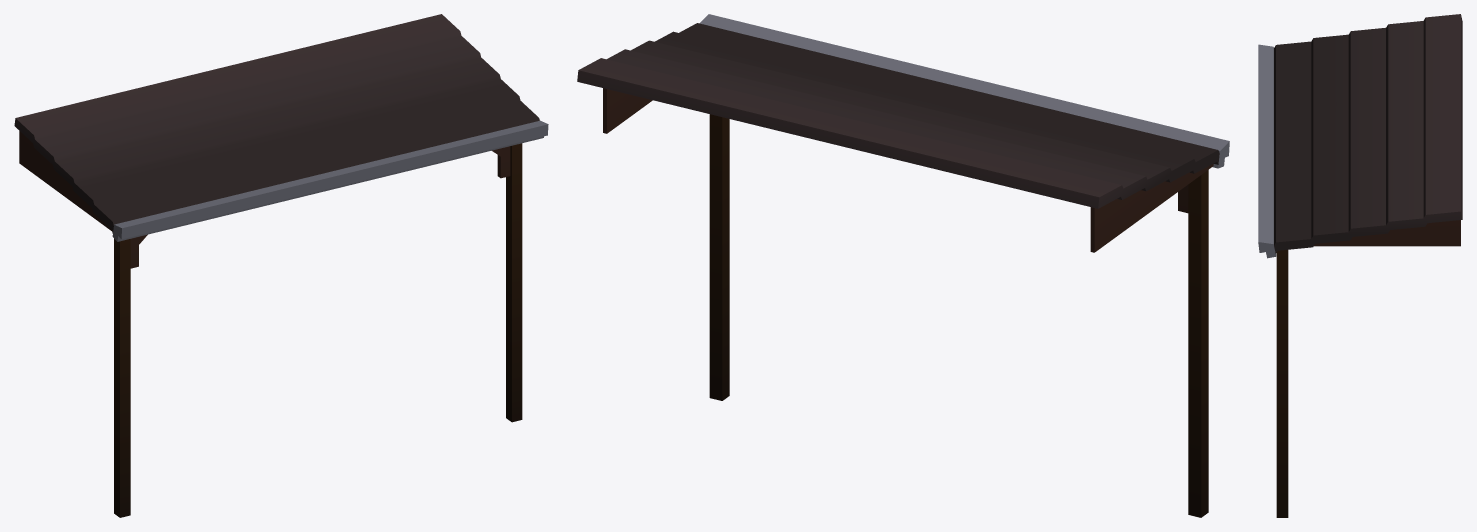
File: Awning 5M.glb
3 views of the same model, side by side, from view 1: azimuth 30°, elevation 25°; view 2: azimuth 150°, elevation 25°; view 3: azimuth 270°, elevation 25° (orthographic). The views are drawn at different scales.
Parts seen in each view (by area): view 1: awning 5M; view 2: awning 5M; view 3: awning 5M.
Part boxes in pixels (x1,y1,x2,y2): awning 5M: [14, 14, 548, 517]; awning 5M: [577, 14, 1229, 517]; awning 5M: [1258, 14, 1462, 517].
Size of what is drawn, in the model's own units: 5 by 3.71 by 2.19.
1 material, 1 textured.
